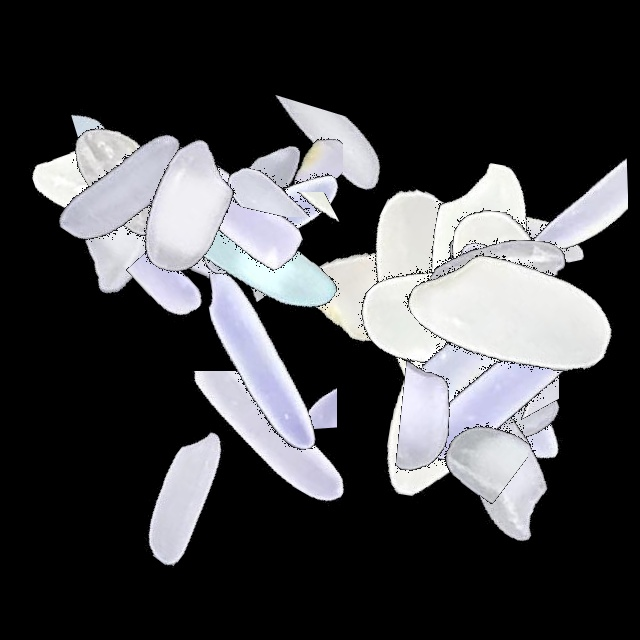Broken: (386, 282, 636, 456), (194, 60, 367, 310), (117, 371, 367, 538), (383, 156, 533, 406), (158, 104, 306, 354), (237, 56, 383, 306), (483, 71, 628, 321), (343, 351, 593, 485), (435, 113, 564, 363), (100, 100, 228, 350), (137, 108, 264, 358), (401, 310, 528, 560), (167, 99, 417, 217), (229, 22, 343, 272), (51, 244, 301, 355), (459, 244, 559, 494), (0, 83, 250, 178), (367, 250, 617, 336), (175, 192, 425, 272), (260, 266, 337, 516), (486, 214, 561, 464)
Full: (273, 163, 523, 413), (60, 369, 310, 619), (371, 112, 621, 362), (43, 72, 293, 322), (386, 242, 636, 492), (0, 73, 250, 323), (353, 262, 603, 512), (133, 236, 383, 486), (295, 163, 545, 413), (362, 291, 612, 541), (320, 275, 570, 525), (124, 83, 374, 333), (364, 171, 614, 421), (379, 346, 629, 596), (354, 160, 604, 410), (350, 136, 600, 386), (356, 179, 606, 429), (0, 104, 250, 354), (0, 55, 250, 305), (380, 180, 630, 430), (121, 123, 371, 373), (368, 182, 618, 432), (115, 81, 365, 331), (332, 182, 582, 432), (381, 265, 631, 515), (0, 64, 250, 314), (371, 156, 621, 406), (62, 85, 312, 335), (388, 192, 638, 442)
